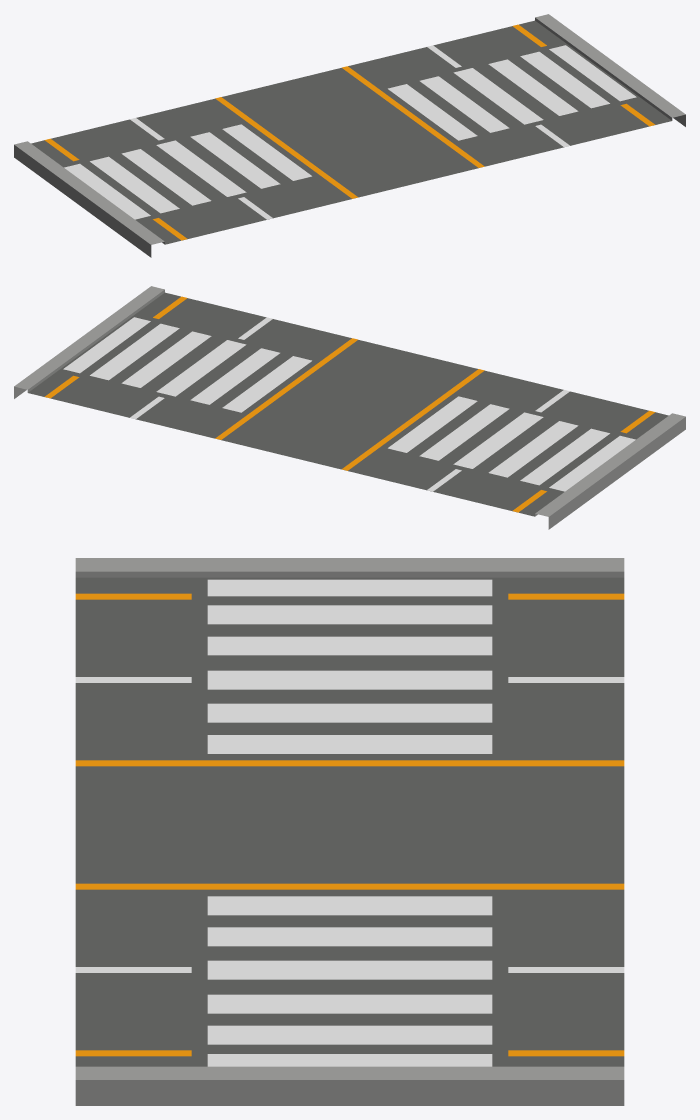
File: Road_B_2L_1_8.fbx
3 views of the same model, one above another, from view 1: azimuth 30°, elevation 25°; view 2: azimuth 150°, elevation 25°; view 3: azimuth 270°, elevation 25° (orthographic). The views are drawn at different scales.
Parts seen in each view (by area): view 1: Road_B_2L_1_8; view 2: Road_B_2L_1_8; view 3: Road_B_2L_1_8.
Part boxes in pixels (x1,y1,x2,y2): Road_B_2L_1_8: (14, 14, 685, 257); Road_B_2L_1_8: (14, 286, 685, 529); Road_B_2L_1_8: (75, 558, 624, 1105).
Bounding box in the file's own units: 1800 × 41.48 × 800.
